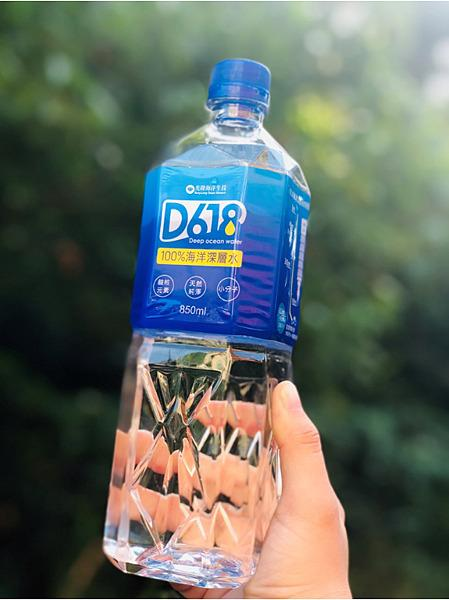plastic: (103, 59, 310, 597)
